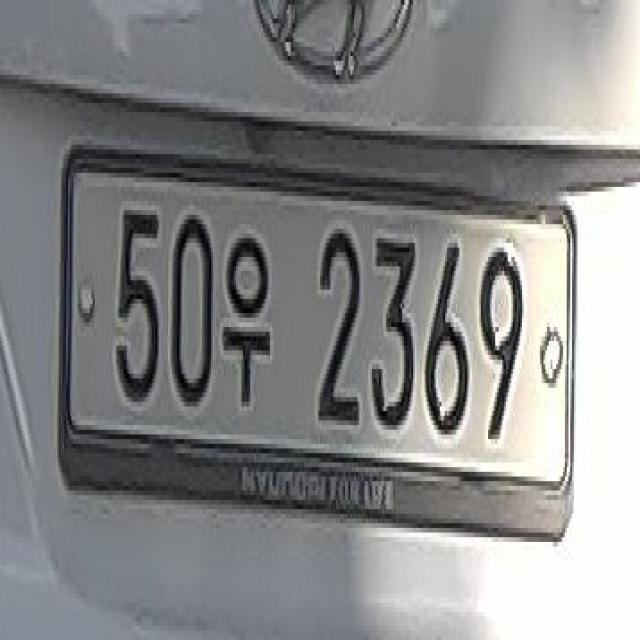0: (168, 204, 218, 422)
2: (308, 217, 364, 442)
3: (370, 215, 418, 449)
5: (112, 183, 168, 400)
6: (423, 216, 472, 452)
9: (476, 231, 528, 453)
license_plate: (56, 155, 574, 522)
u: (220, 218, 278, 419)
